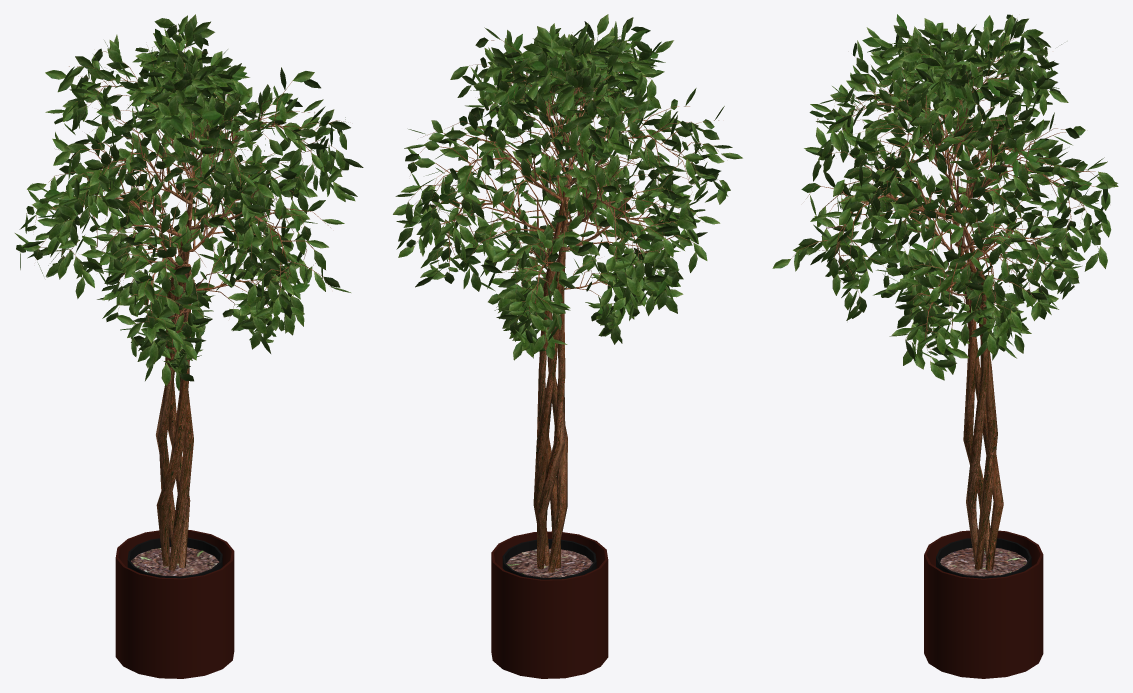
Rendered from ficus.obj.
3 renders of one model, left to right at view 1: azimuth 30°, elevation 25°; view 2: azimuth 150°, elevation 25°; view 3: azimuth 270°, elevation 25°, orthographic.
Visible parts, largest first — view 1: leaves, tree_Mesh, Cylinder.001_Cylinder.002, Cylinder.002_Cylinder.003, Cylinder_Cylinder.001; view 2: leaves, tree_Mesh, Cylinder.001_Cylinder.002, Cylinder.002_Cylinder.003, Cylinder_Cylinder.001; view 3: leaves, tree_Mesh, Cylinder.001_Cylinder.002, Cylinder.002_Cylinder.003, Cylinder_Cylinder.001.
Part boxes in pixels (x1,y1,x2,y2): leaves: (15,14,363,390); tree_Mesh: (26,28,343,570); Cylinder.001_Cylinder.002: (115,530,234,678); Cylinder.002_Cylinder.003: (131,547,218,576); Cylinder_Cylinder.001: (127,537,222,578); leaves: (393,14,742,360); tree_Mesh: (408,32,722,572); Cylinder.001_Cylinder.002: (491,531,608,678); Cylinder.002_Cylinder.003: (506,548,593,577); Cylinder_Cylinder.001: (502,539,596,579); leaves: (772,14,1118,380); tree_Mesh: (791,38,1095,570); Cylinder.001_Cylinder.002: (924,530,1043,678); Cylinder.002_Cylinder.003: (940,547,1027,576); Cylinder_Cylinder.001: (936,538,1031,578).
Bounding box in the file's own units: 42.46 × 82.39 × 41.52.
5 materials, 3 textured.
